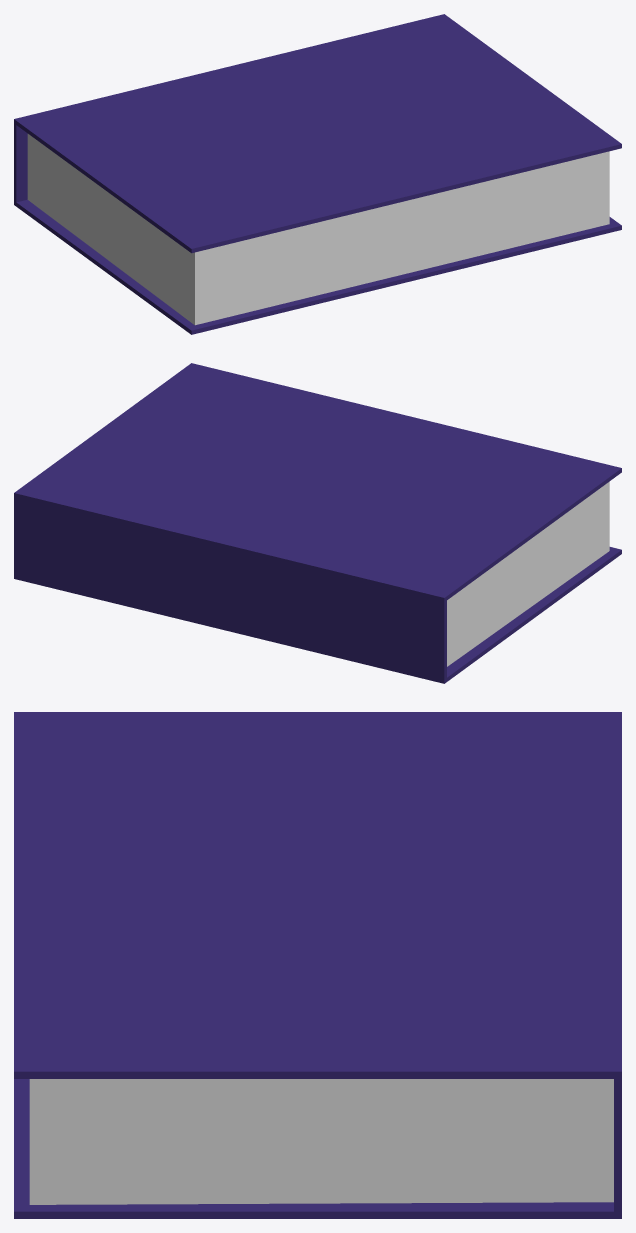
Rendered from ThrowProp_BookSmallPurple.FBX.
3 renders of one model, top to bottom at view 1: azimuth 30°, elevation 25°; view 2: azimuth 150°, elevation 25°; view 3: azimuth 270°, elevation 25°, orthographic. The views are drawn at different scales.
Visible parts, largest first — view 1: Book_SmallPurple; view 2: Book_SmallPurple; view 3: Book_SmallPurple.
Boxes of the visible parts, box(x1,y1,x2,y2) form: Book_SmallPurple: box(14, 14, 621, 334); Book_SmallPurple: box(14, 363, 621, 683); Book_SmallPurple: box(14, 712, 621, 1218).
Bounding box in the file's own units: 13.97 × 2.66 × 9.98.
1 material, 1 textured.
